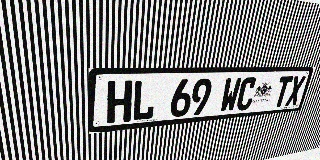6: (169, 79, 194, 118)
9: (189, 78, 213, 116)
C: (235, 77, 258, 111)
H: (107, 80, 133, 124)
L: (131, 80, 157, 121)
T: (272, 76, 294, 107)
W: (219, 78, 242, 113)
X: (285, 76, 306, 106)
